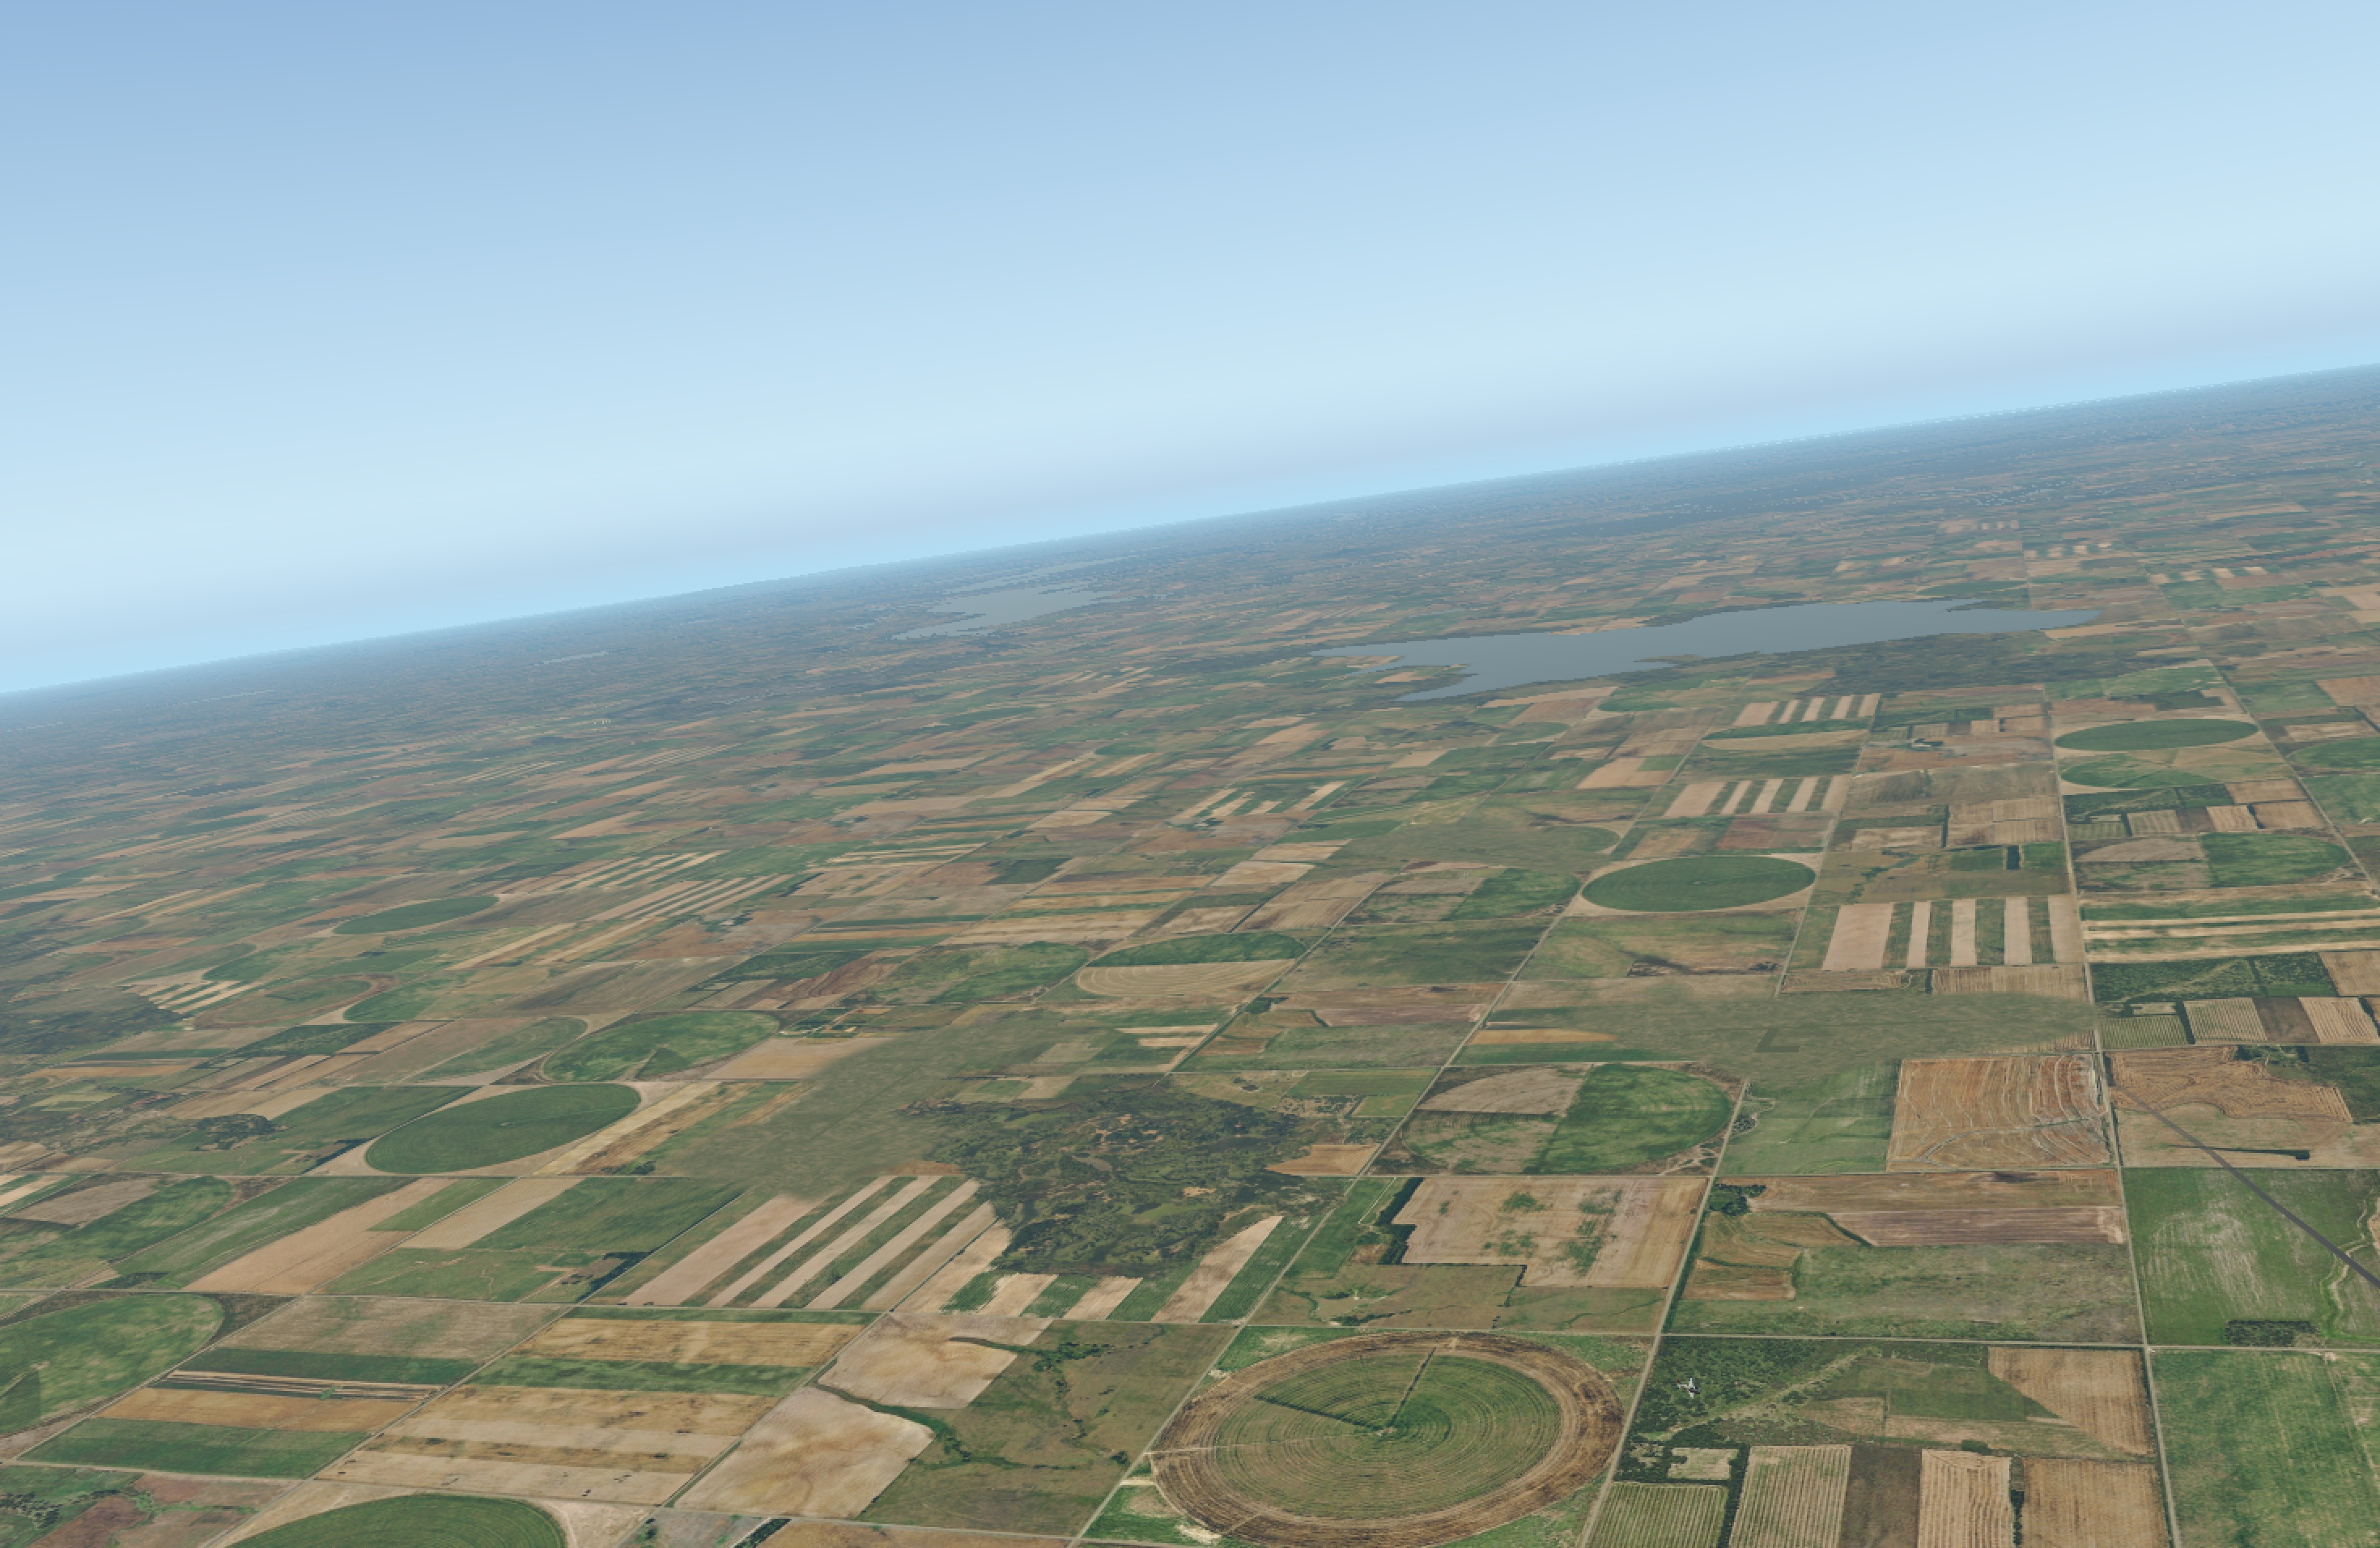aircraft: (1676, 1383, 1710, 1397)
